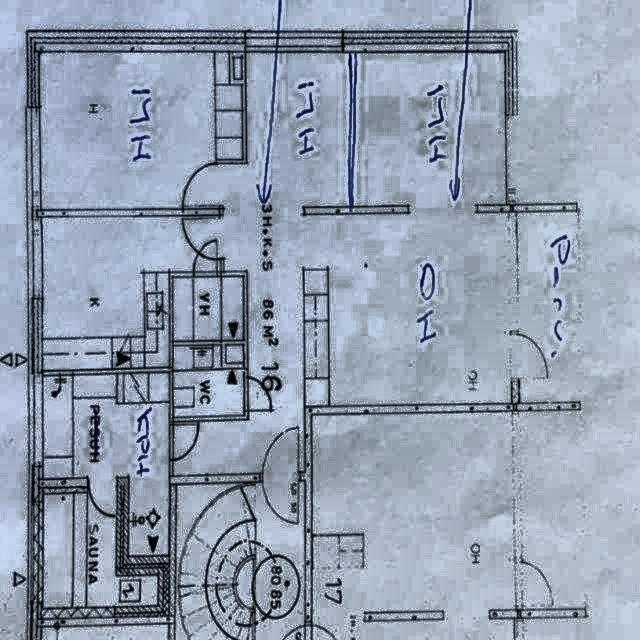room: (310, 411, 515, 612), (40, 53, 243, 209), (40, 215, 218, 371), (43, 374, 171, 557), (43, 494, 158, 608), (174, 346, 244, 417), (174, 278, 244, 341)
